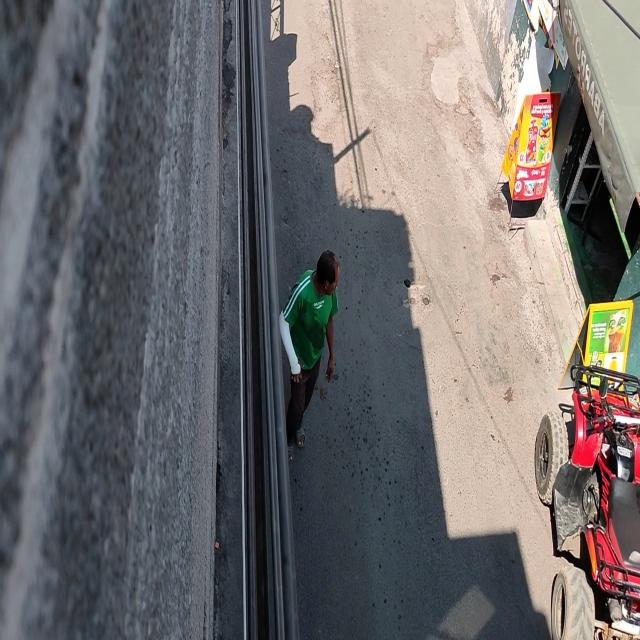adult: (278, 247, 341, 458)
